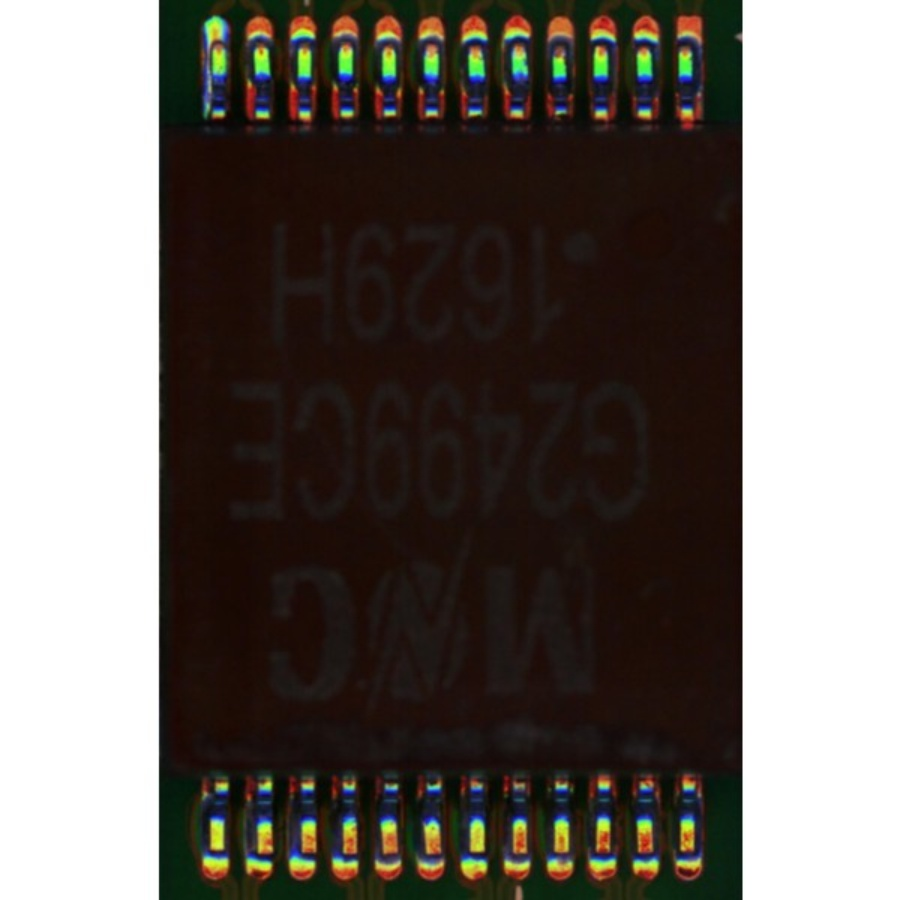Bad_podu: (210, 30, 222, 54)
Bad_qiaojiao: (203, 50, 212, 119)
